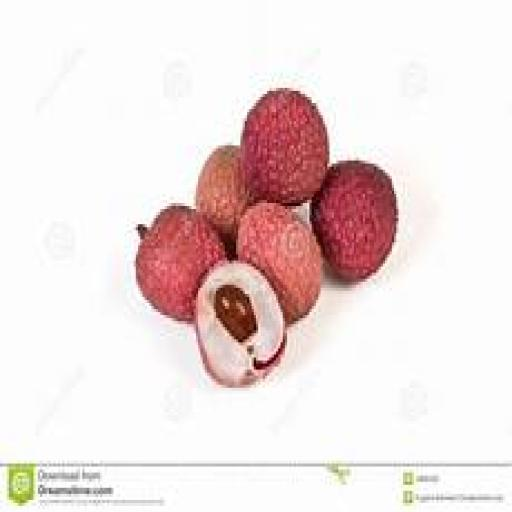lychee: (196, 261, 284, 387), (236, 203, 322, 324), (241, 88, 329, 206), (312, 161, 398, 281), (136, 207, 224, 321), (196, 146, 251, 248)
